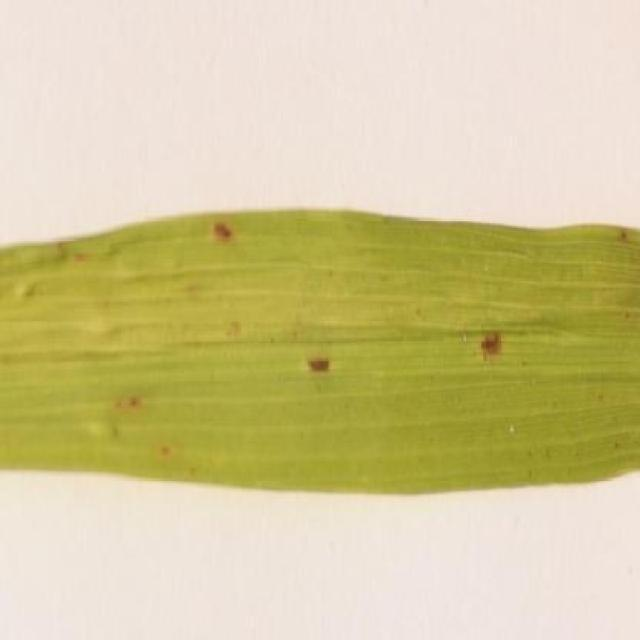Leaf_Blast: (468, 310, 506, 372), (301, 333, 336, 395), (206, 216, 245, 256), (108, 390, 146, 428)
